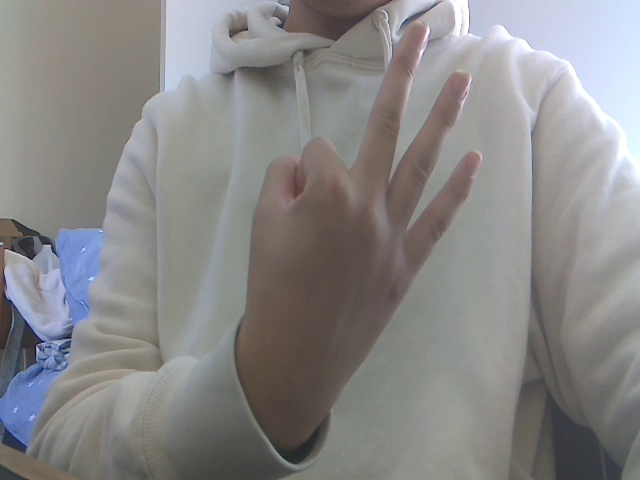hand_gesture_3: (231, 12, 497, 433)
